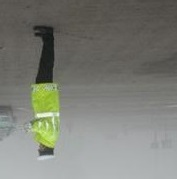person: (26, 23, 62, 162)
